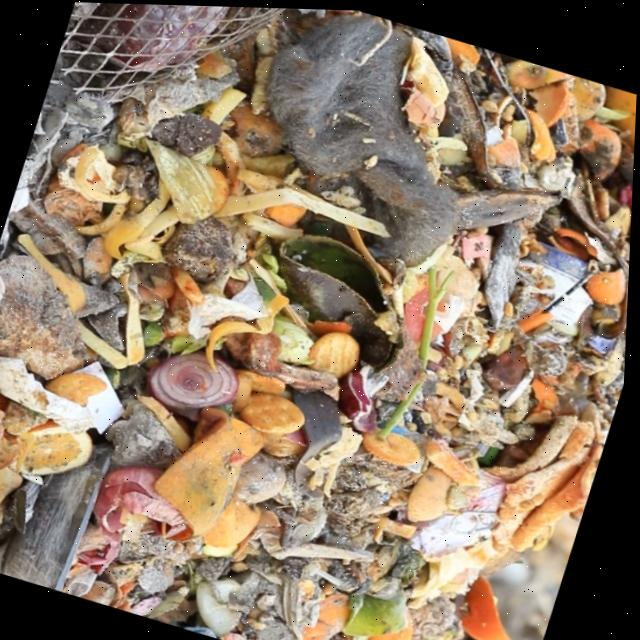Wet: (491, 55, 590, 167), (136, 330, 245, 421), (7, 414, 105, 496), (443, 565, 544, 640), (0, 485, 2, 563)
